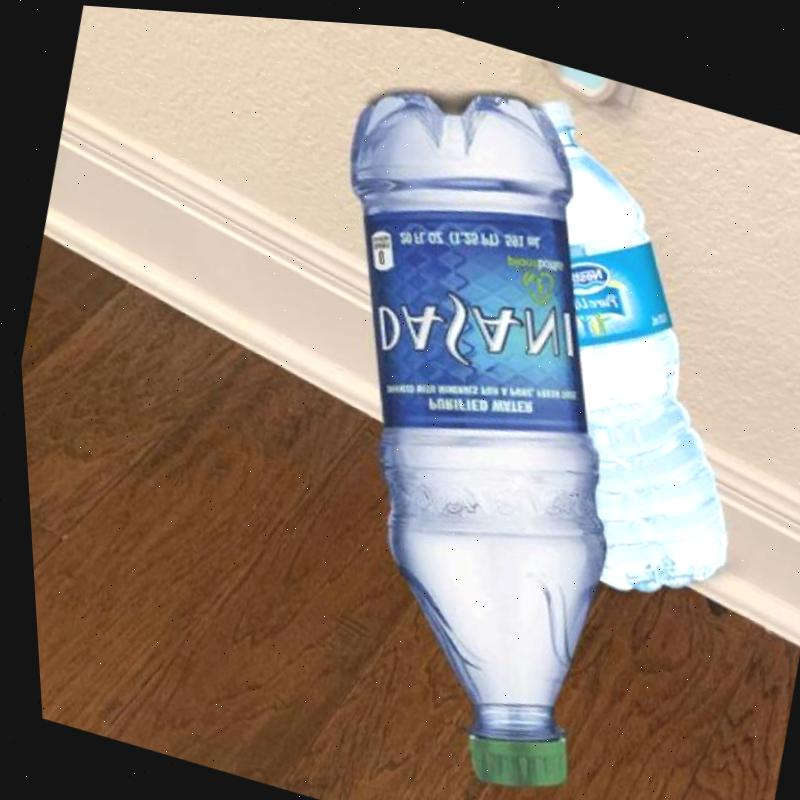botella: (204, 38, 706, 800), (417, 76, 800, 613)
